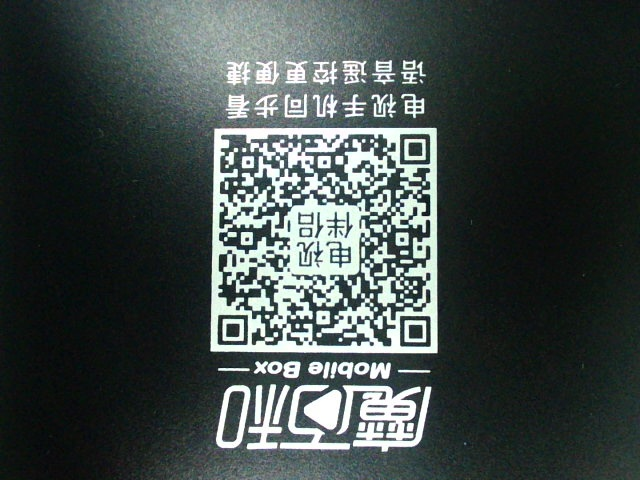AZ_MobileBox: (201, 53, 449, 454)
